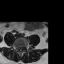CCS_severe_stenosis: (20, 46, 21, 52)
LFS_severe_stenosis: (23, 45, 25, 50)
LLS_severe_stenosis: (21, 46, 23, 51)
RFS_stenosis: (16, 45, 18, 49)
RLS_severe_stenosis: (18, 46, 20, 50)
